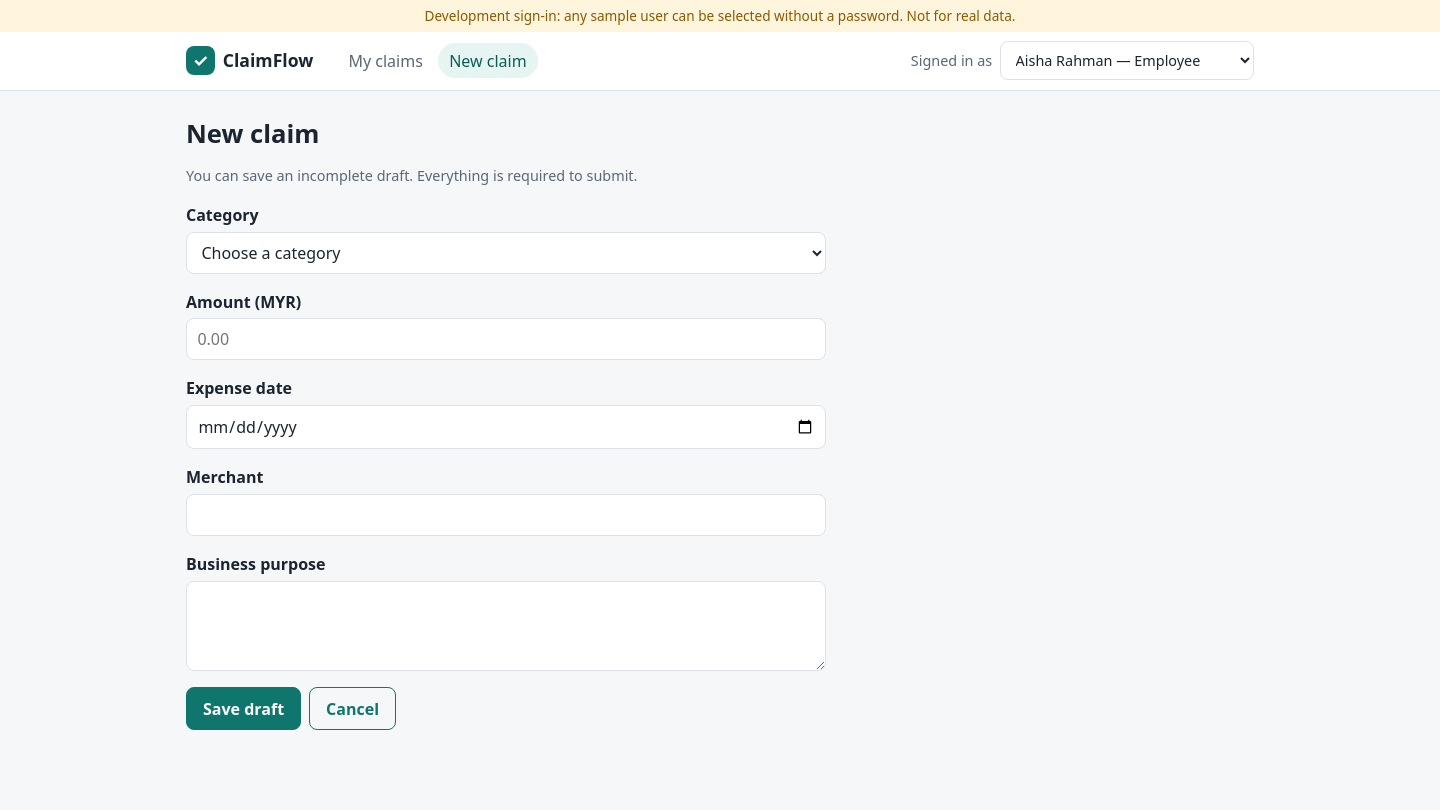
Test: creating and editing drafts › creates a draft with the amount in minor units
This screenshot has width=1440, height=810.
Select "Travel" in the dropdown labelled "Category" at coordinates (506, 253), box [186, 232, 826, 274]
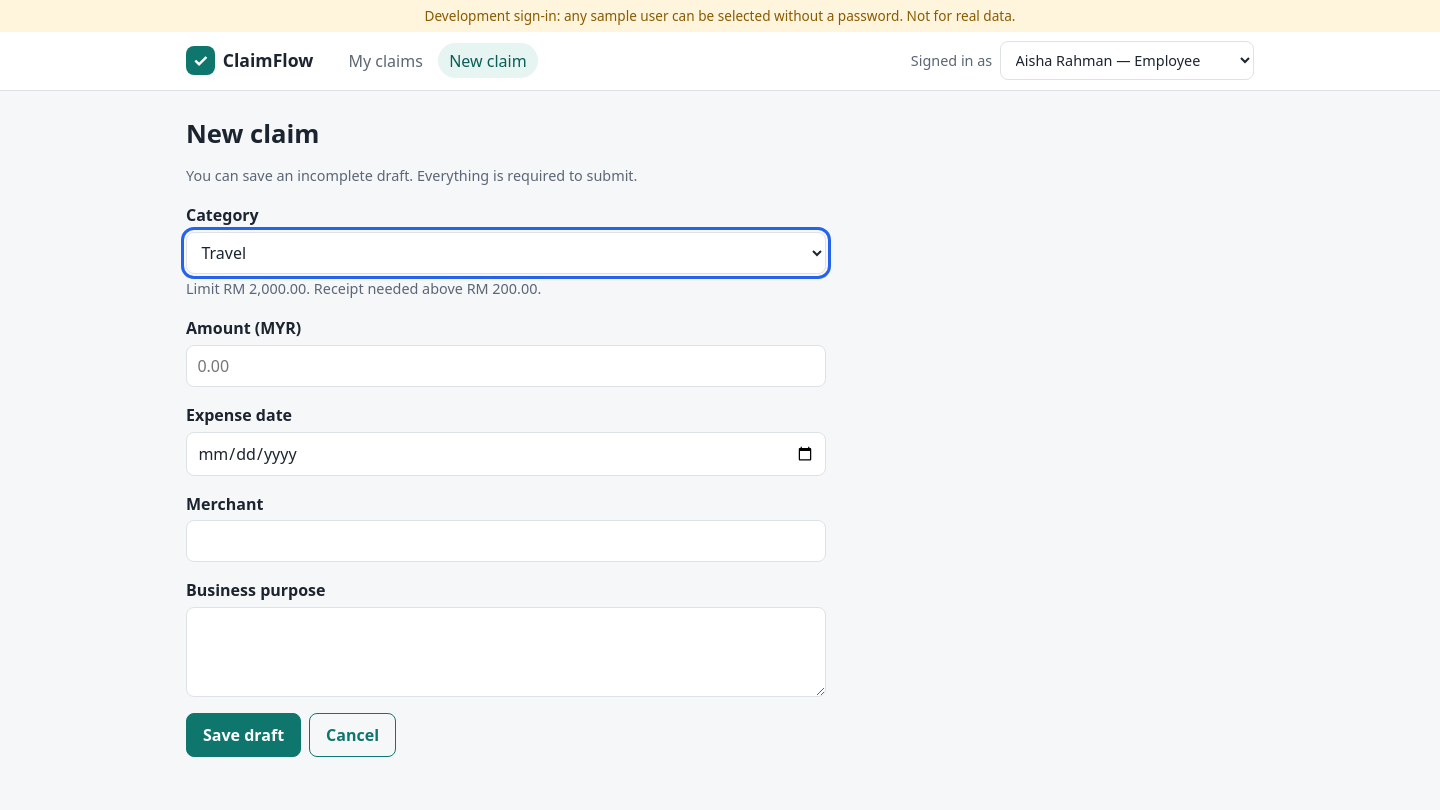
Type "1,250.5" into the field labelled "Amount (MYR)" at coordinates (506, 366), box [186, 345, 826, 387]
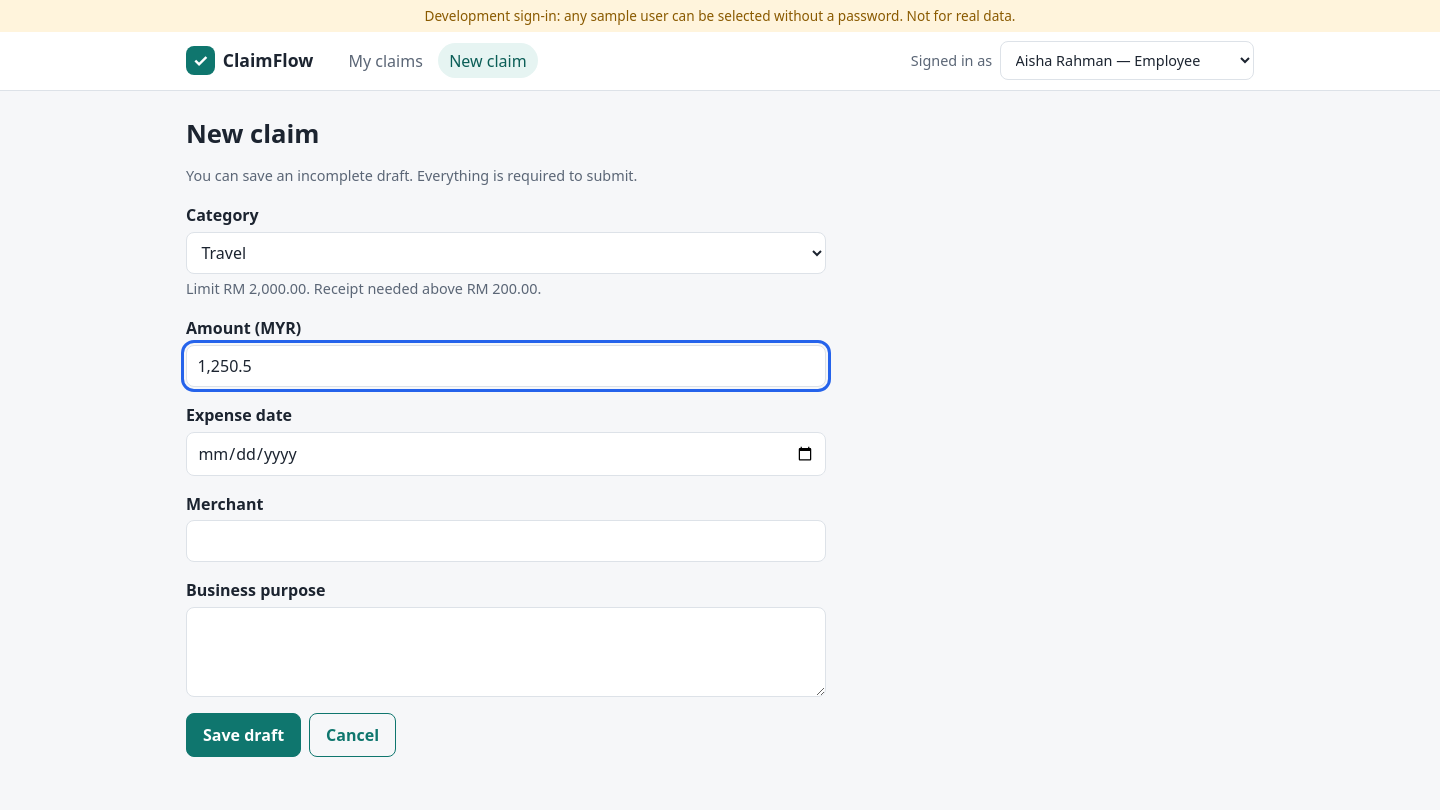
Type " Regional Airline " into the field labelled "Merchant" at coordinates (506, 541), box [186, 520, 826, 562]
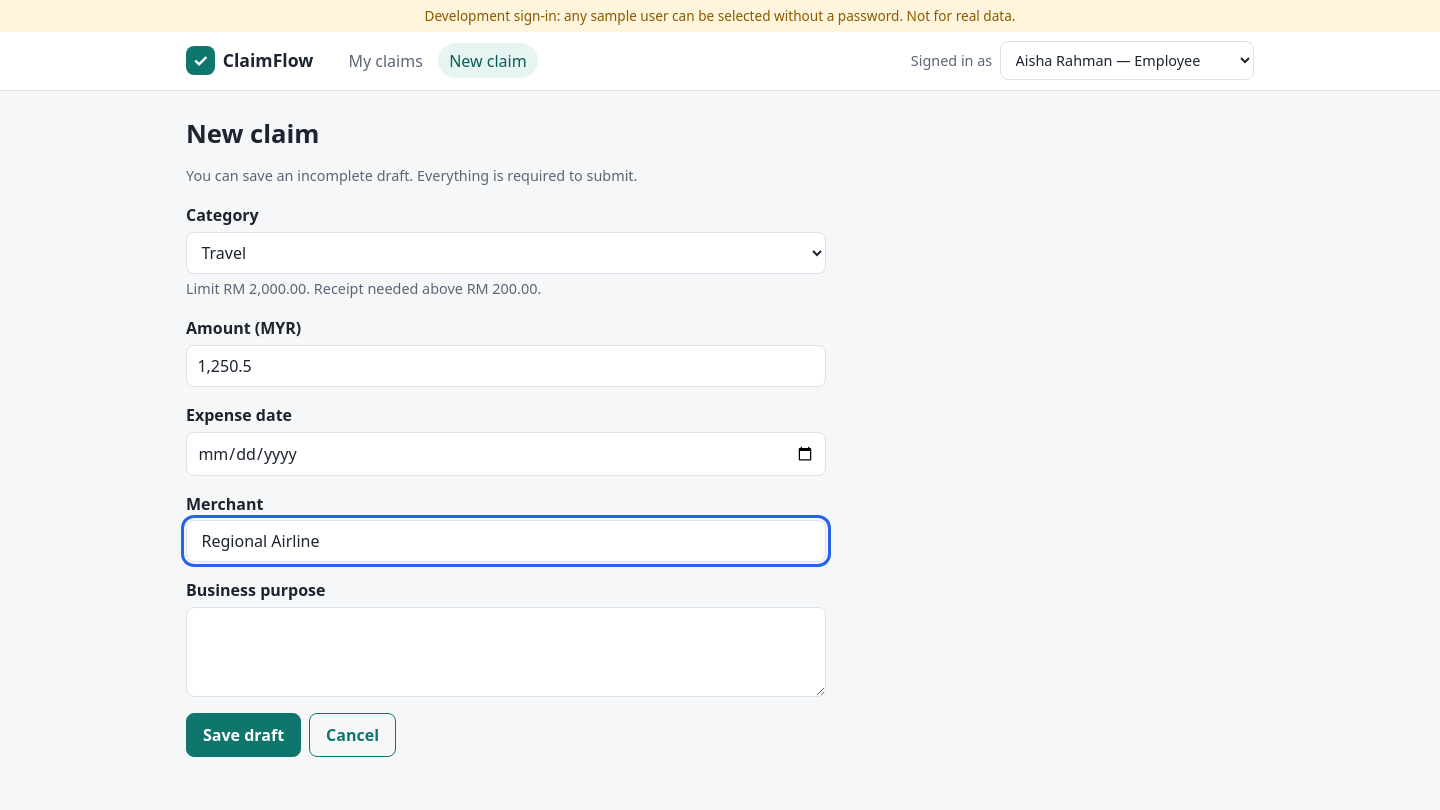
Click the button "Save draft" at coordinates (244, 735), box [186, 713, 301, 757]
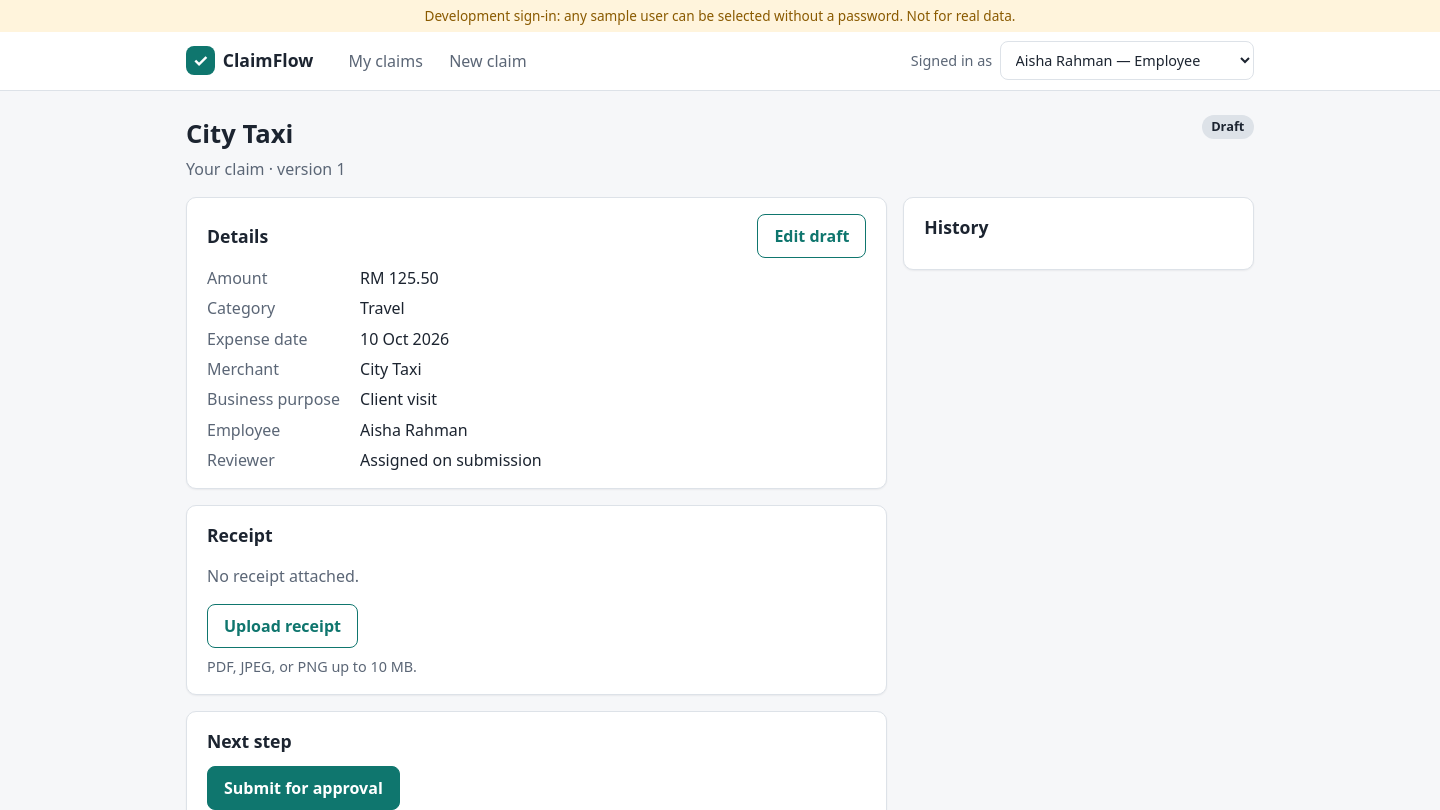
Expected: the heading "City Taxi" is shown, [186, 116, 293, 151]
